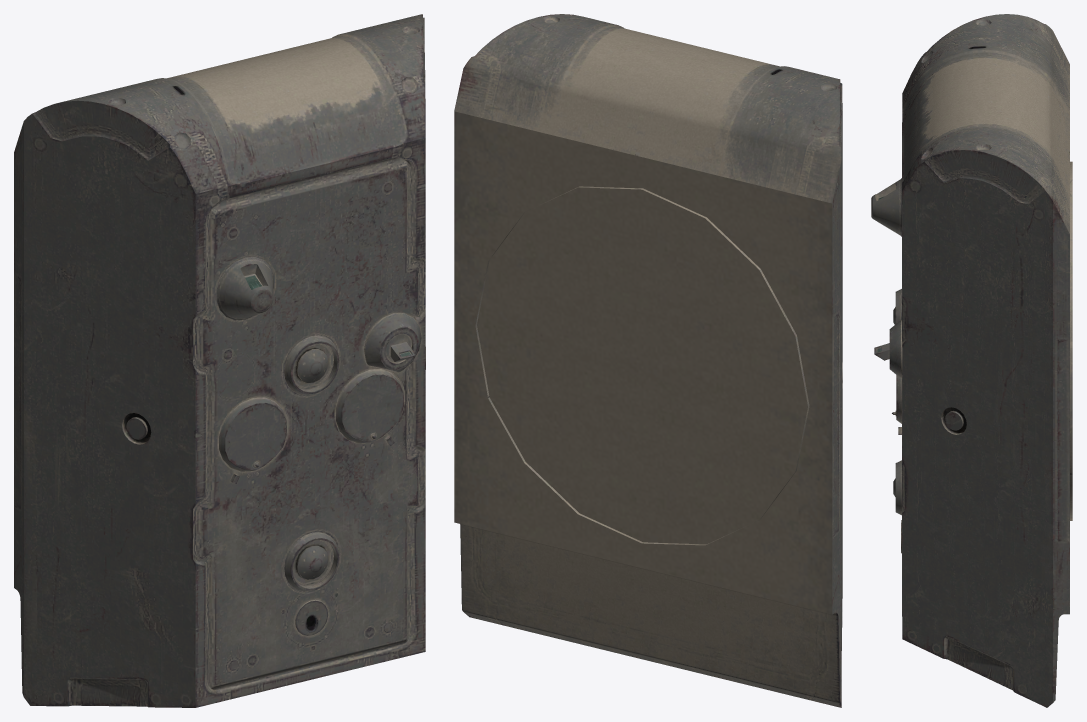
The model's file is Turret_01.glb.
3 renders of one model, left to right at view 1: azimuth 30°, elevation 25°; view 2: azimuth 150°, elevation 25°; view 3: azimuth 270°, elevation 25°, orthographic. The views are drawn at different scales.
Visible parts, largest first — view 1: set_0_group_0; view 2: set_0_group_0; view 3: set_0_group_0.
Boxes of the visible parts, x1,y1,x2,y2 form: set_0_group_0: (14, 14, 425, 707); set_0_group_0: (454, 14, 842, 707); set_0_group_0: (871, 14, 1072, 707).
Bounding box in the file's own units: 3.07 × 4.53 × 1.53.
1 material, 1 textured.
